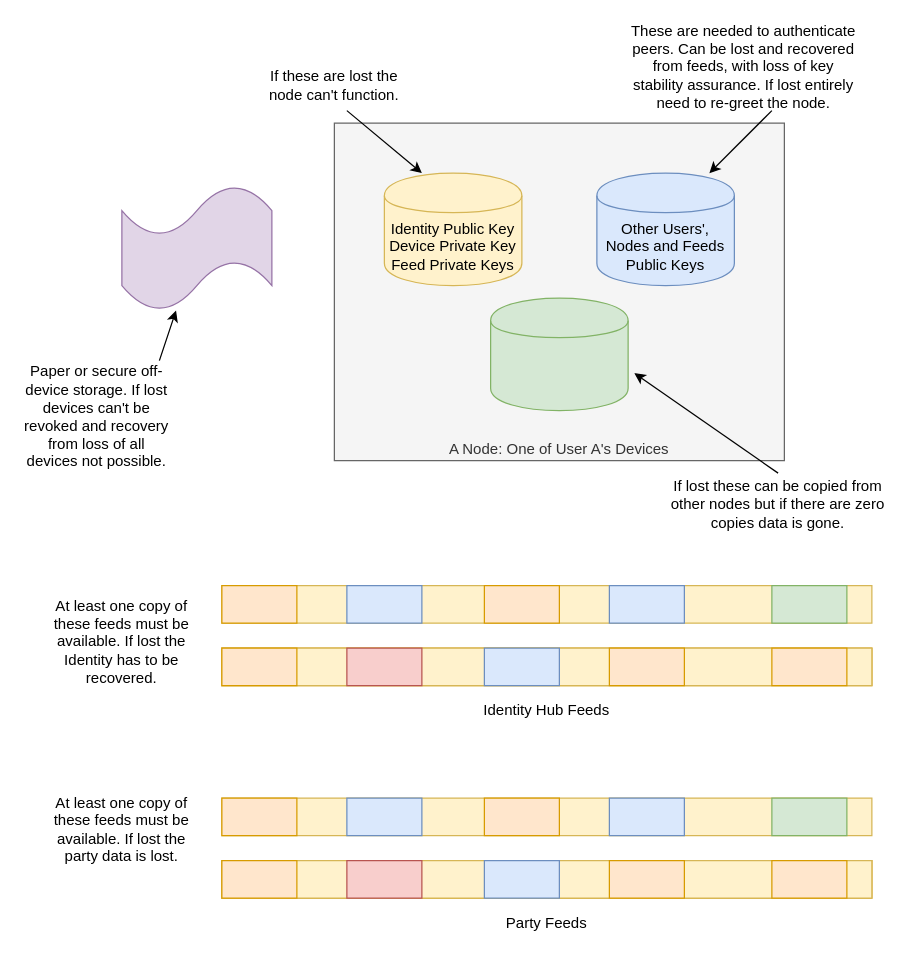
Some shapes in this 918 by 956 pixel diagram are drawn without their labels. The box of each missing label's shape, as (x1, y1, x2, y2) in pixels:
Copies of Feeds: (489, 297, 628, 411)
User A's Identity Private Key: (121, 184, 272, 311)
